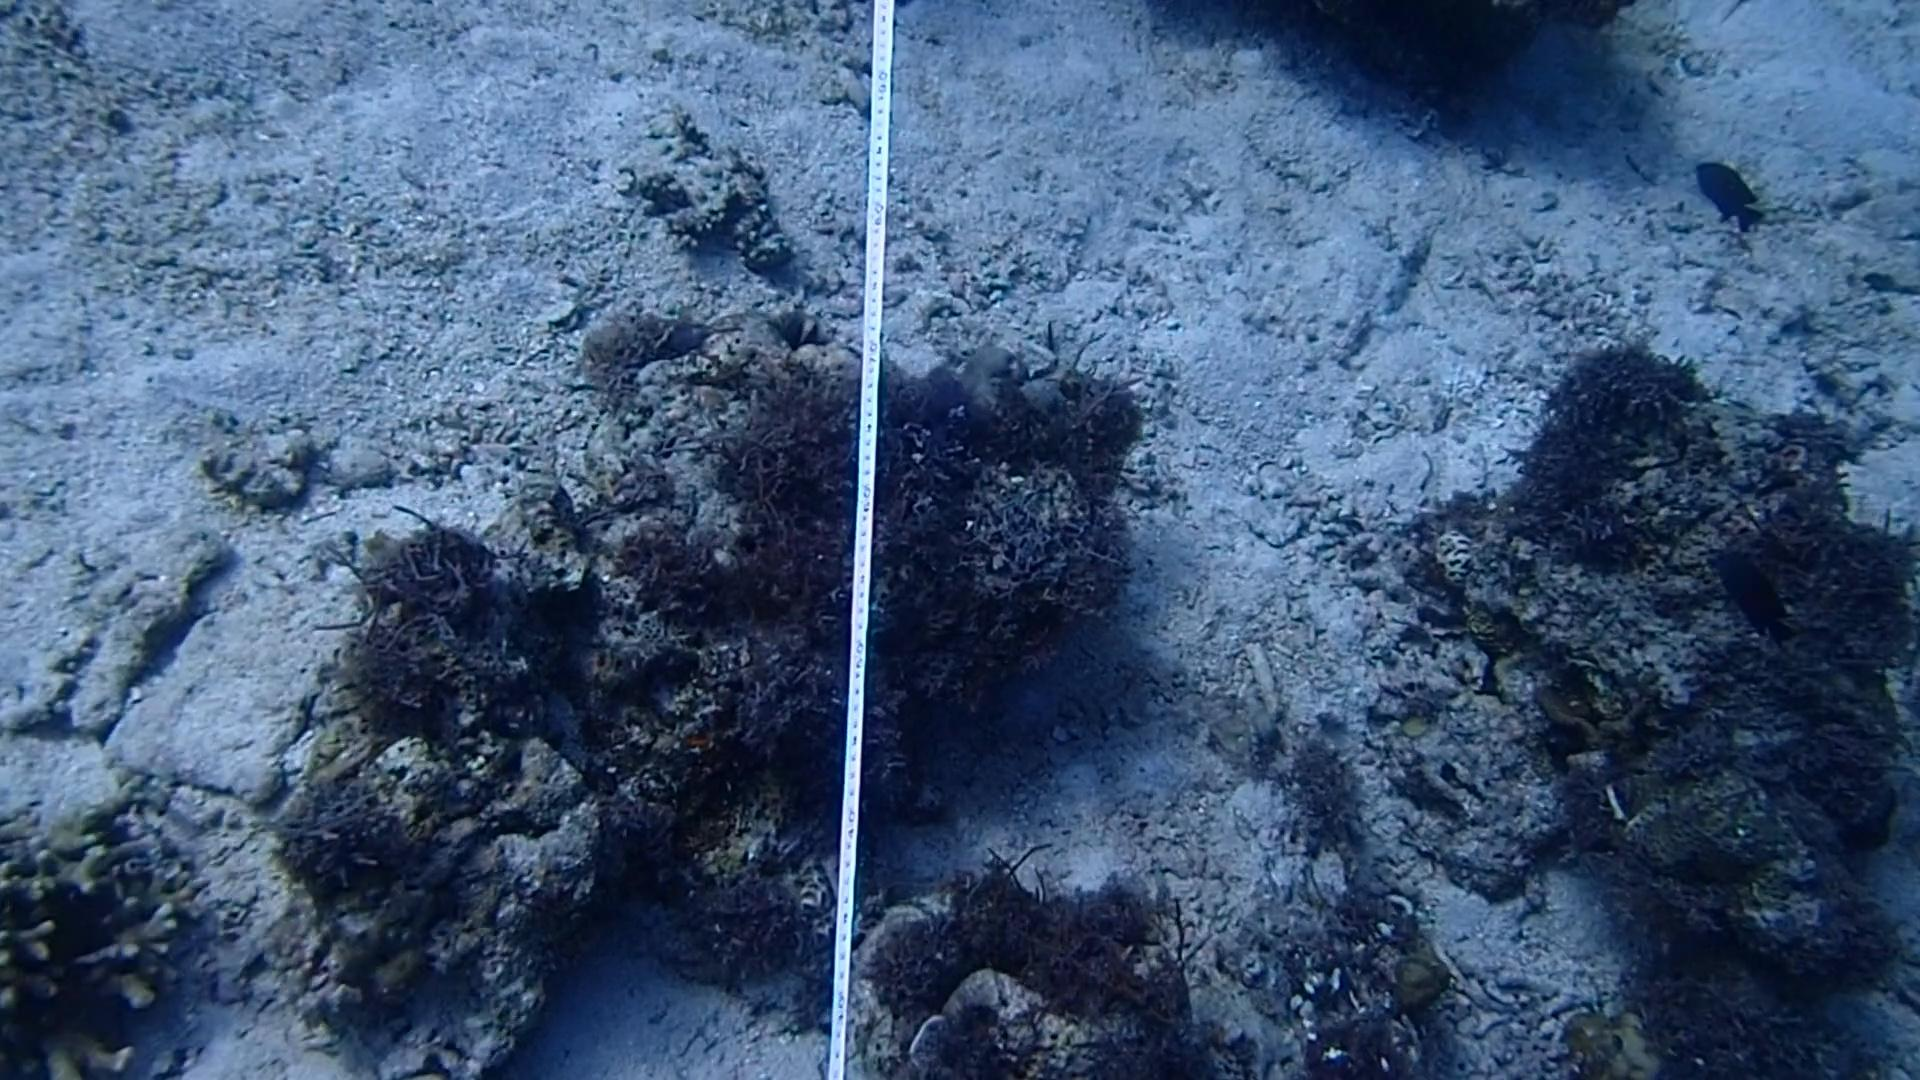Dark Fish: (1710, 537, 1791, 640), (1685, 142, 1763, 237)
